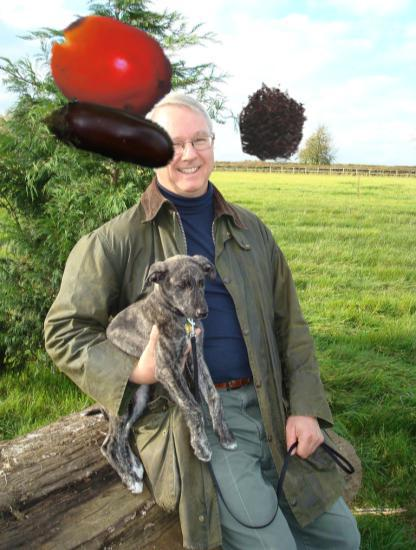Eggplant: (37, 62, 181, 206)
Kaki: (47, 9, 174, 136)
Rambutan: (231, 80, 316, 165)
